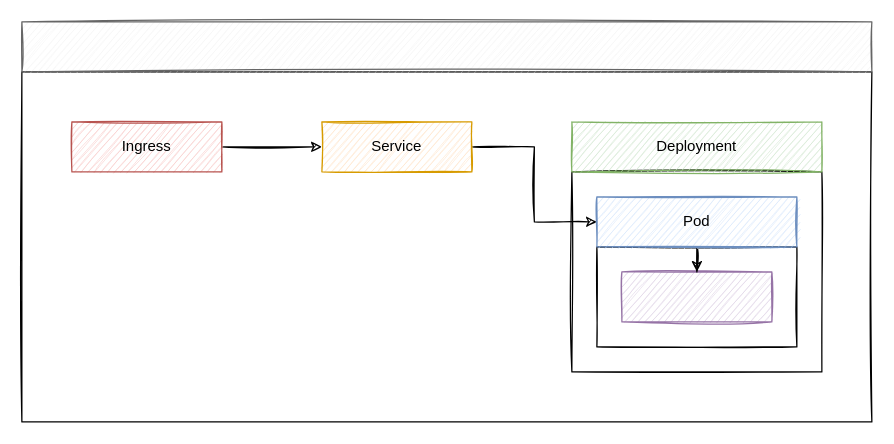
Image size: 894x444. Some labels were removed from this diagram. Each missing label, with the centre of its shape:
Container: pixel 696 296
Namespace: pixel 446 46
